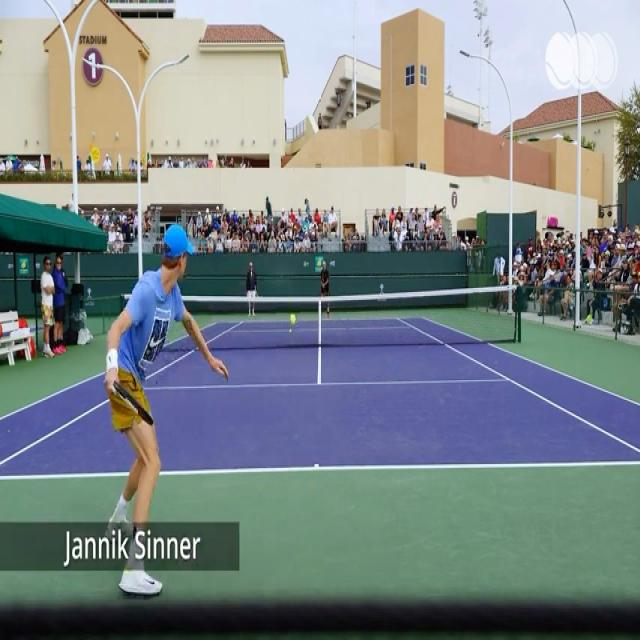forehand-ready: (108, 217, 230, 594)
